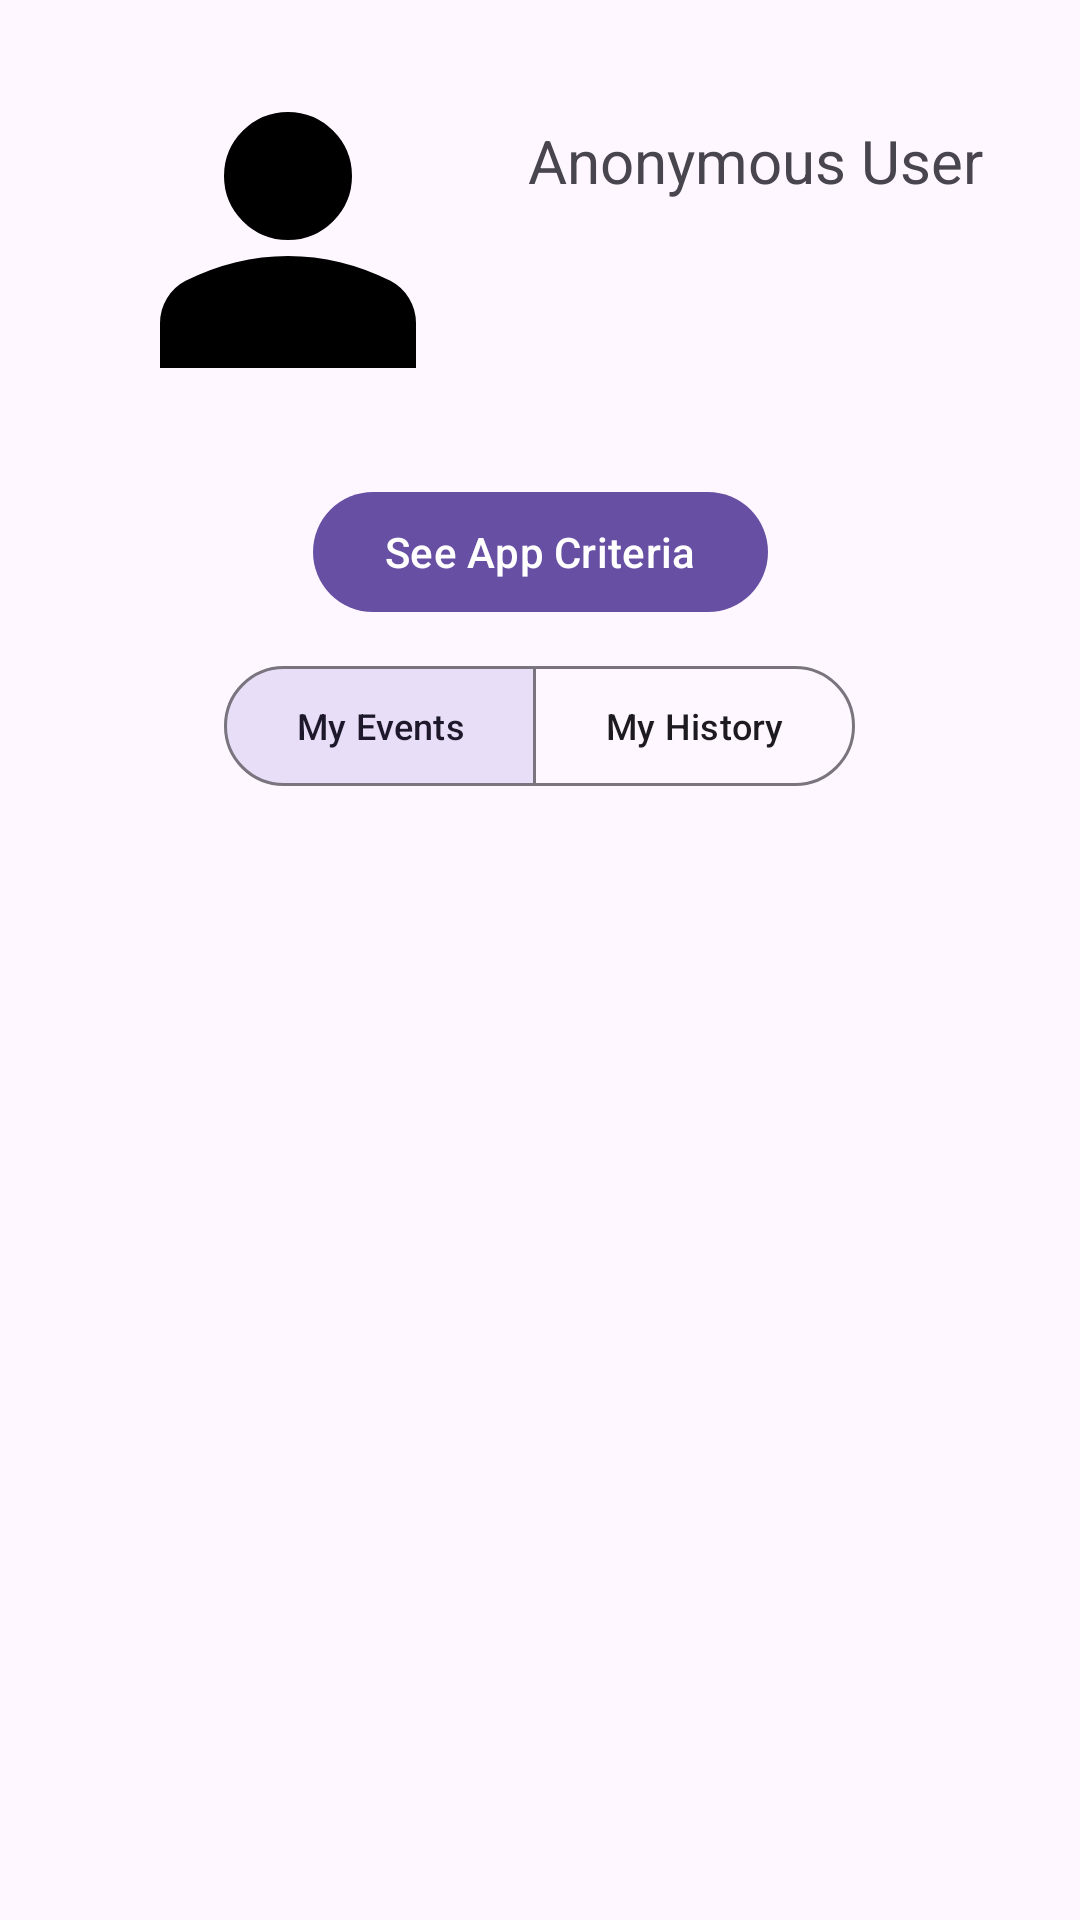

Locate icon controls on the screen. Image size 1080x1920, boxes as (x1, y1, x2, y2).
person: (160, 112, 416, 368)
